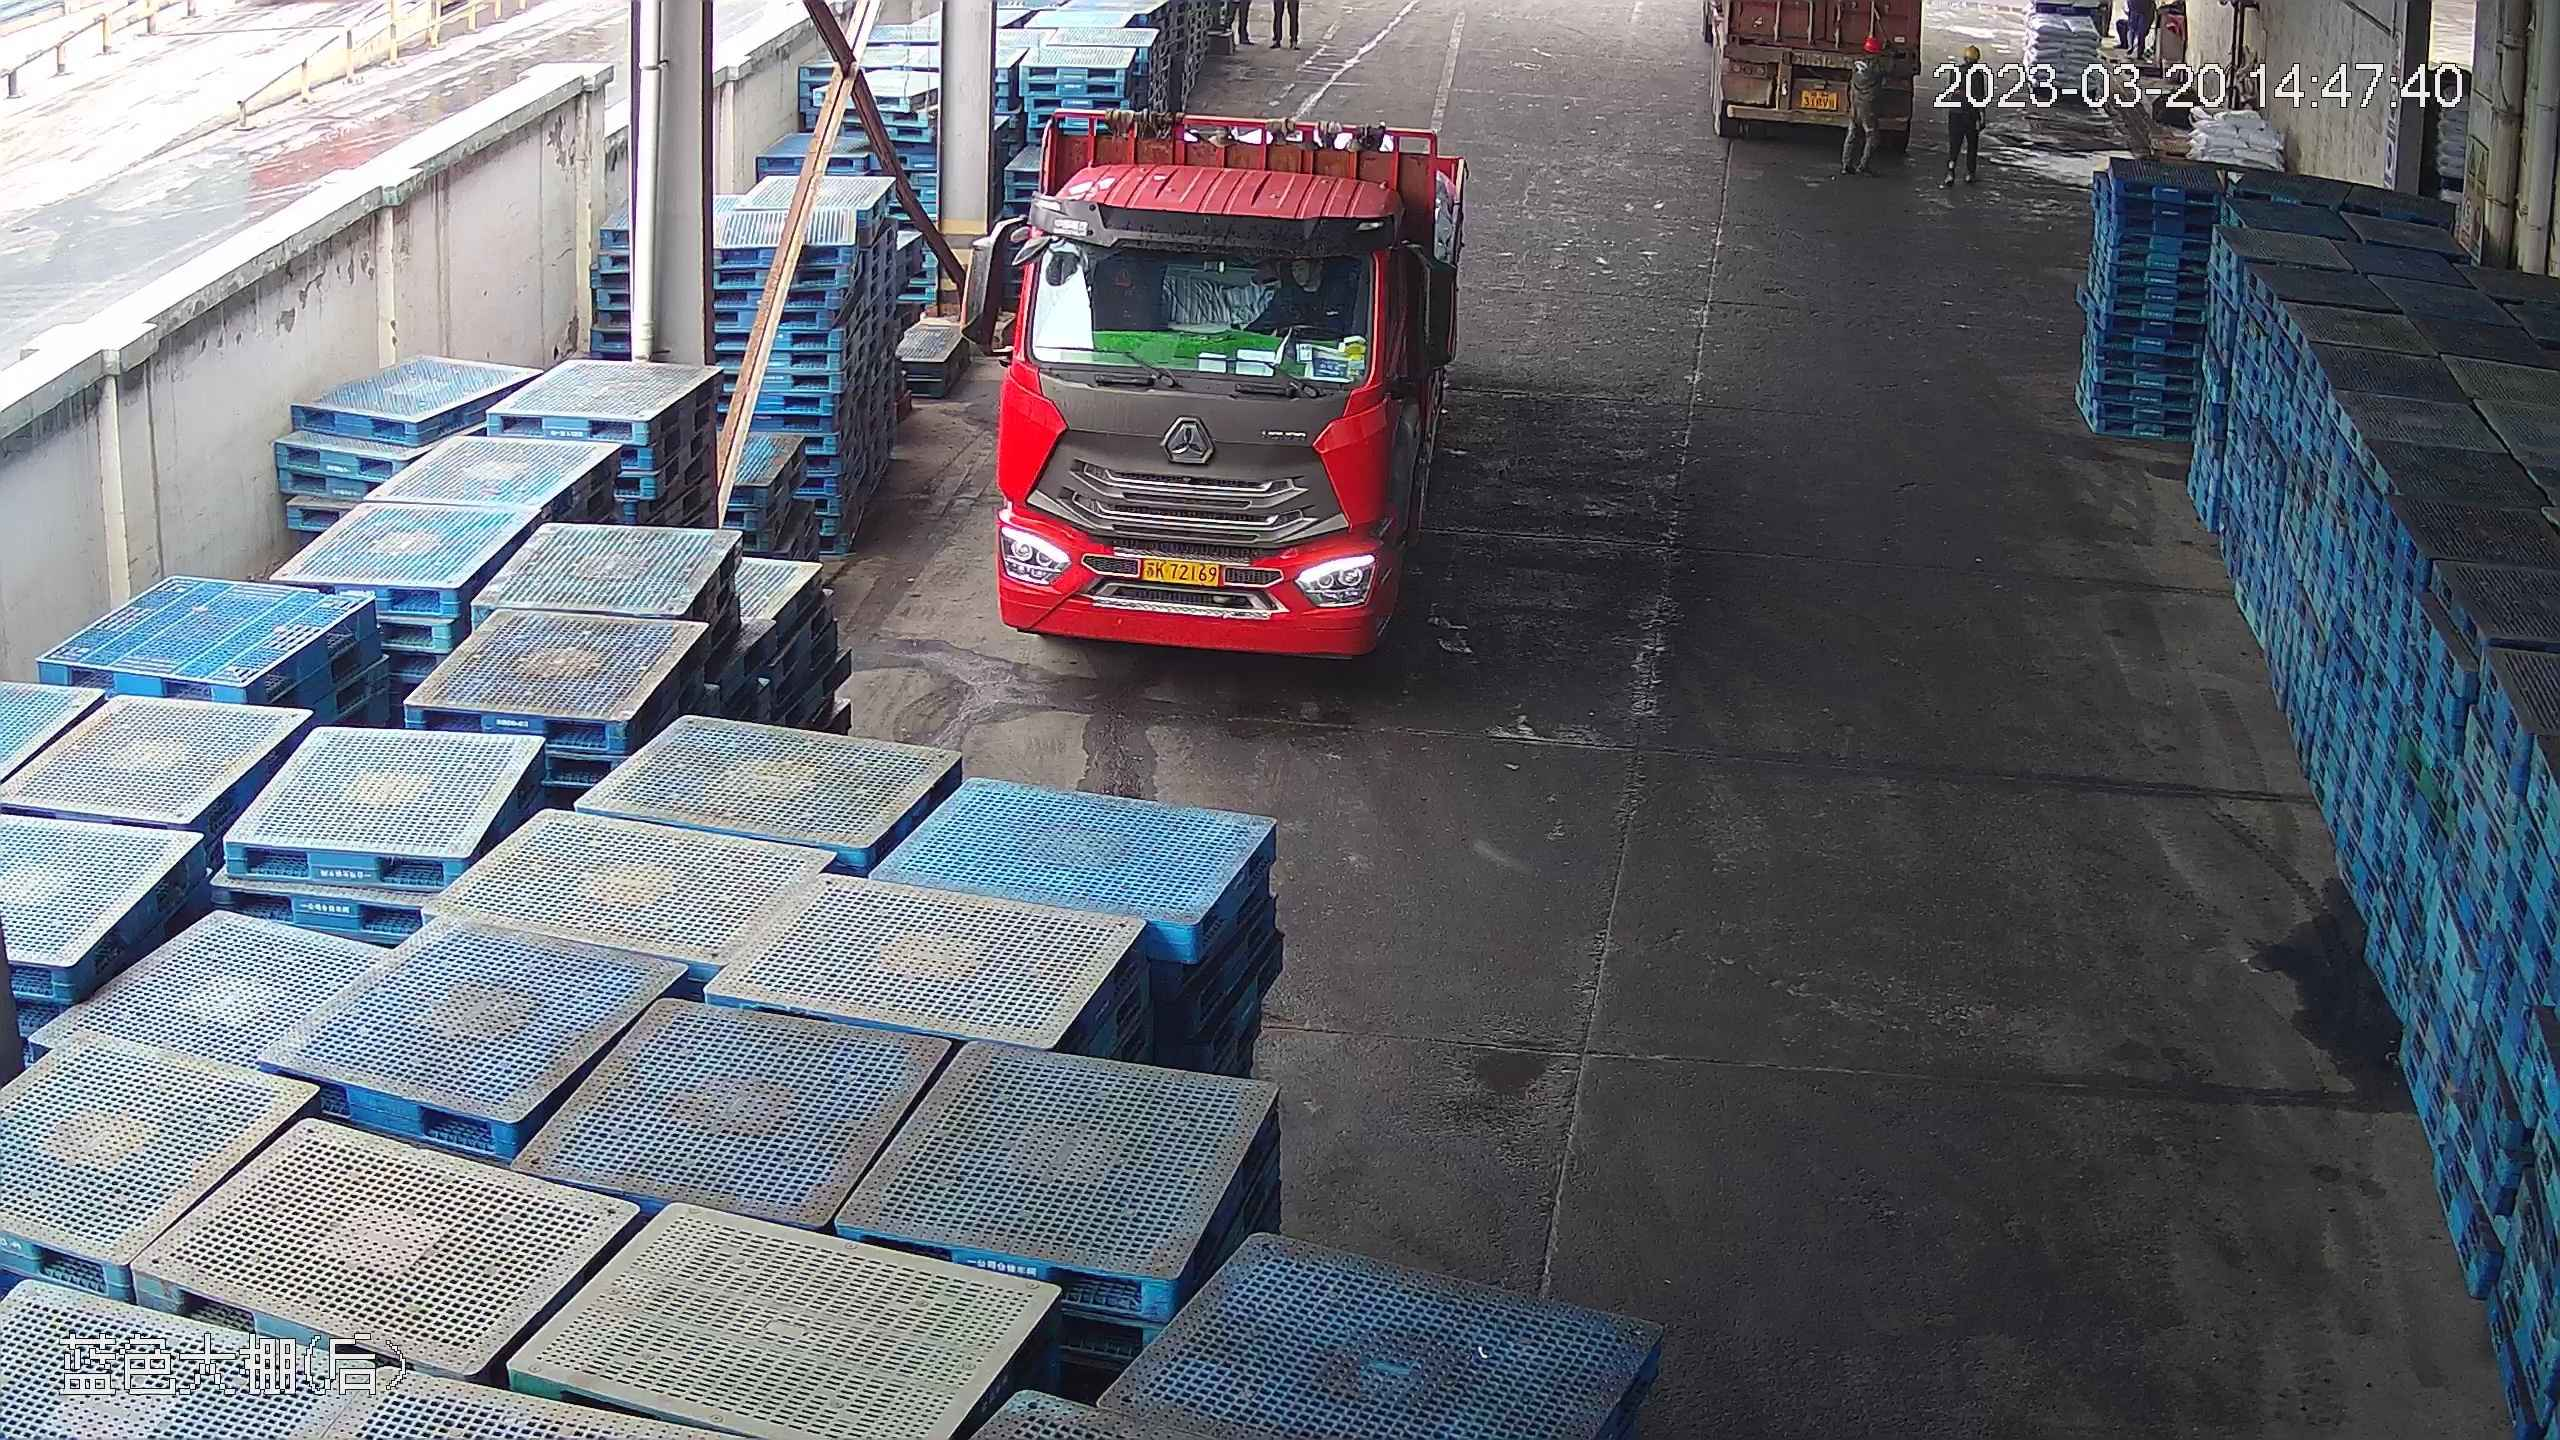head: (1947, 38, 1989, 84), (1850, 37, 1887, 85)
helmet: (1863, 36, 1883, 55), (1962, 44, 1983, 62)
people: (1937, 37, 1989, 188), (1836, 36, 1887, 177)
truck: (966, 48, 1481, 665), (1704, 1, 1901, 151)
